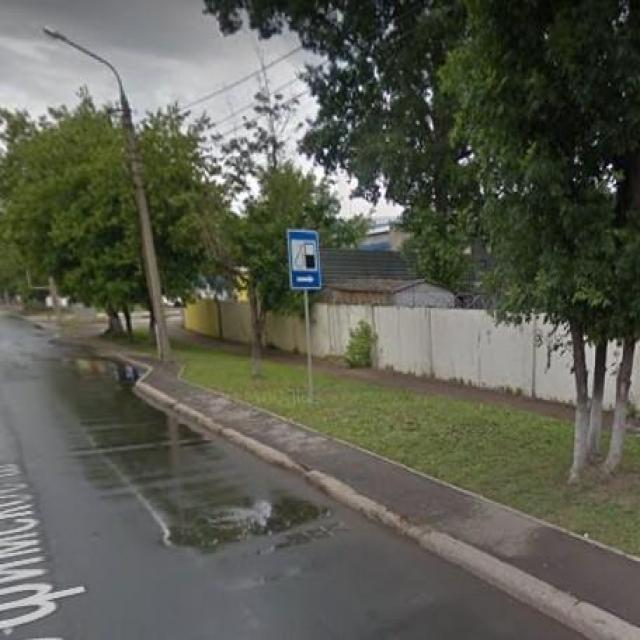traffic_sign: (284, 222, 326, 295)
